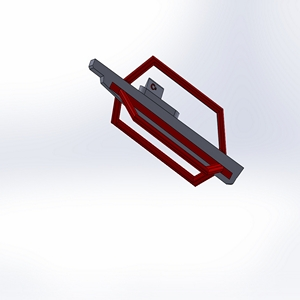submarine: (76, 42, 257, 211)
